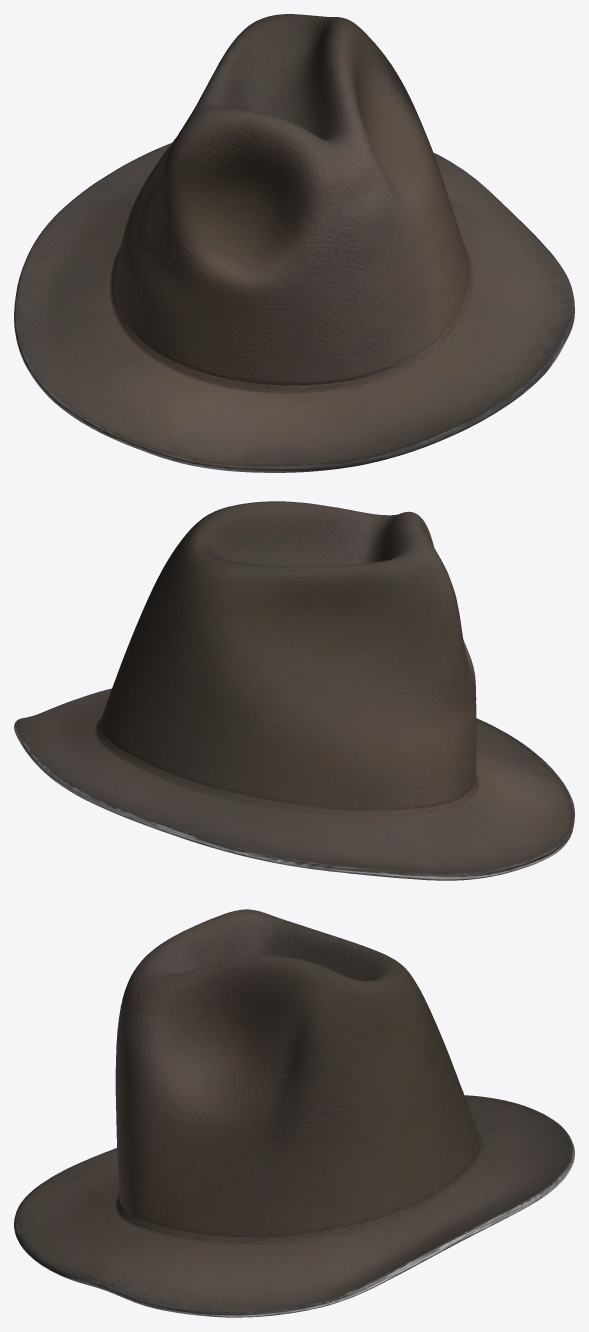
File: chapeau krugger.glb
3 renders of one model, top to bottom at view 1: azimuth 30°, elevation 25°; view 2: azimuth 150°, elevation 25°; view 3: azimuth 270°, elevation 25°, orthographic.
Visible parts, largest first — view 1: node_0; view 2: node_0; view 3: node_0.
Part boxes in pixels (bbox=[...]): node_0: bbox=[14, 14, 574, 472]; node_0: bbox=[14, 501, 574, 880]; node_0: bbox=[14, 909, 574, 1317].
Bounding box in the file's own units: 1.04 × 0.628 × 1.03.
1 material, 1 textured.
